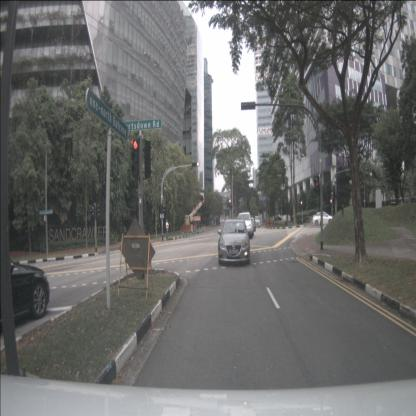human-pedestrian-adult: (166, 219, 169, 241)
movable_object-barrier: (182, 225, 191, 232), (267, 221, 273, 226), (190, 224, 193, 232)
movable_object-trafficcone: (203, 225, 206, 231), (180, 226, 182, 232)
vehicle-car: (0, 253, 50, 329), (218, 218, 250, 265), (235, 212, 254, 239), (312, 211, 335, 226), (247, 220, 256, 231), (254, 215, 260, 228)
